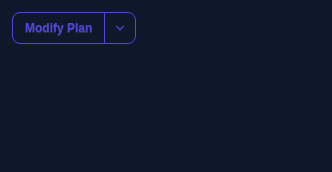
Test: with every option disabled, the menu still opens and keys move through the options, but none runs
Later steps or results of the test are not shown.
Click the button named "More Modify Plan options": x=120, y=28 [104,12,136,44]
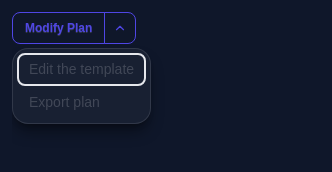
Check: the menu is shown, box [12,48,151,124]
Press Arrowdown
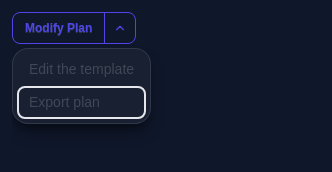
Press Enter
Click the menu item "Edit the template": x=82, y=70 [17,53,146,86]
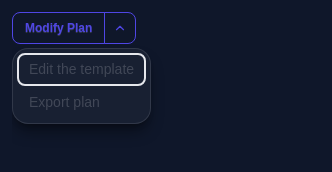
Check: the menu is shown, box [12,48,151,124]
